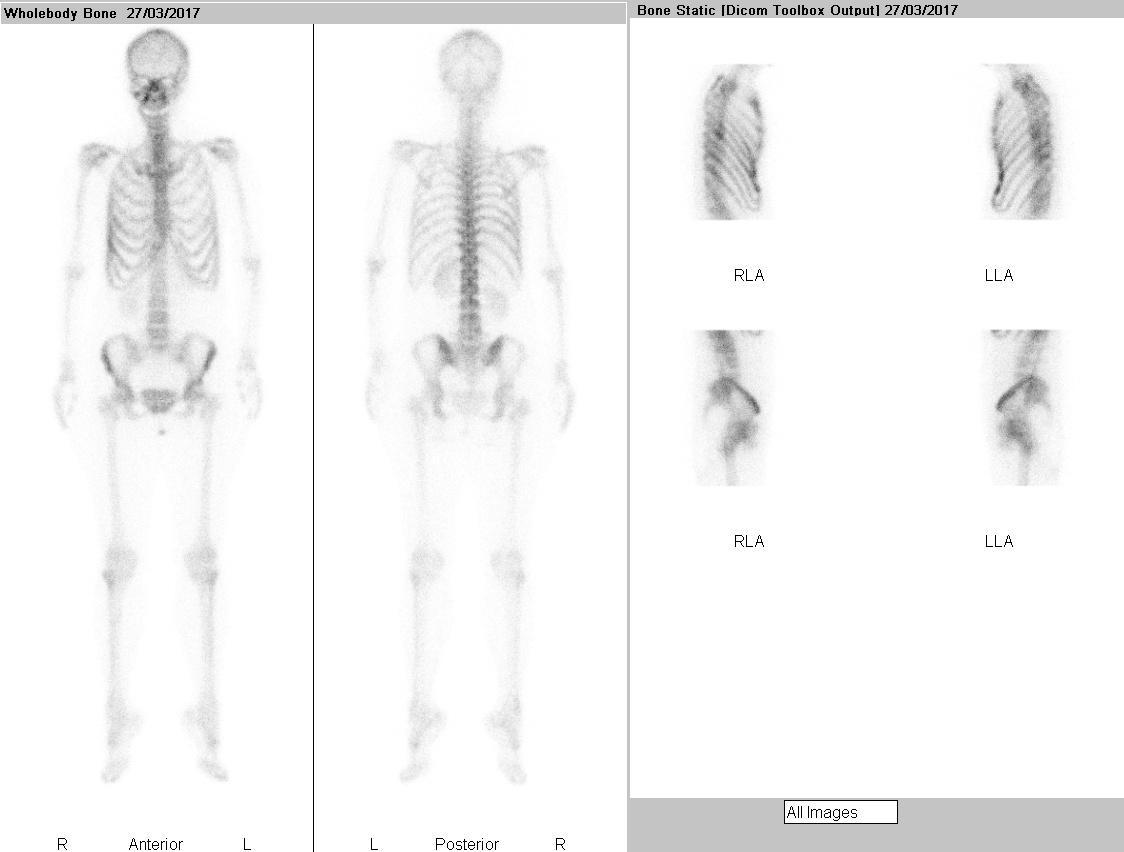person: (1, 25, 625, 852)
